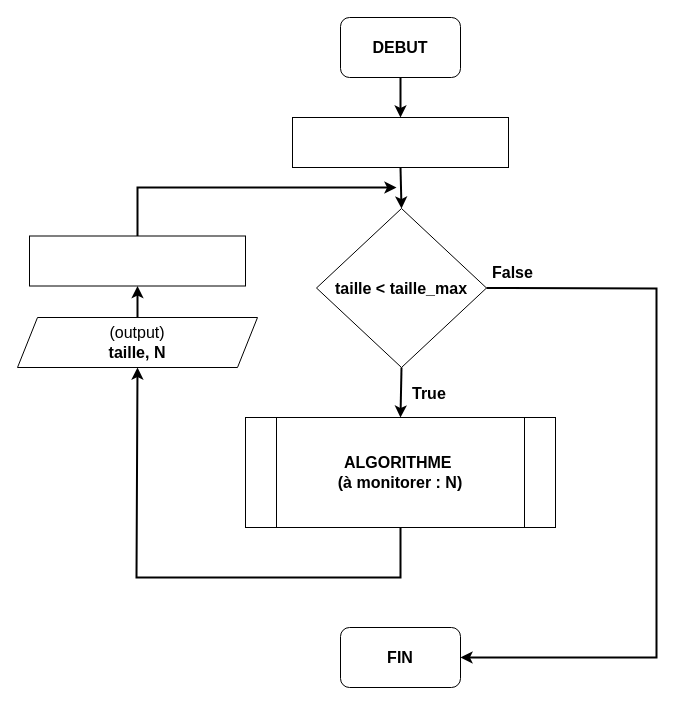
The diagram is 683 pixels wide and 705 high, and some of its shapes have lost their labels. The box of each missing label's shape, as (x1, y1, x2, y2) in pixels:
taille = 0: (292, 116, 508, 168)
taille = taille + pas: (28, 235, 246, 286)
